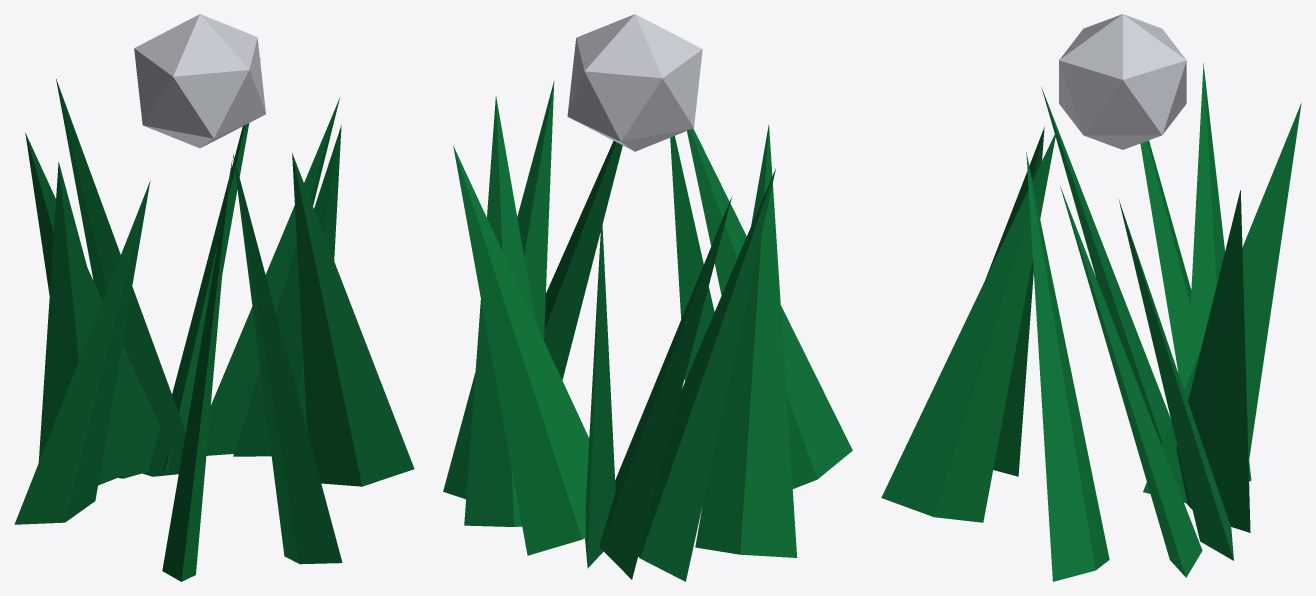
Rendered from Prop_OR_Herb_31.glb.
The picture shows the model from 3 angles, left to right: view 1: azimuth 30°, elevation 25°; view 2: azimuth 150°, elevation 25°; view 3: azimuth 270°, elevation 25°; orthographic projection. The views are drawn at different scales.
Visible parts, largest first — view 1: Prop_OR_Herb_31; view 2: Prop_OR_Herb_31; view 3: Prop_OR_Herb_31.
Boxes of the visible parts, x1,y1,x2,y2 form: Prop_OR_Herb_31: [14, 14, 414, 581]; Prop_OR_Herb_31: [443, 14, 852, 581]; Prop_OR_Herb_31: [881, 14, 1301, 581].
Size of the model in its own units: 0.4887 by 0.6576 by 0.5.
